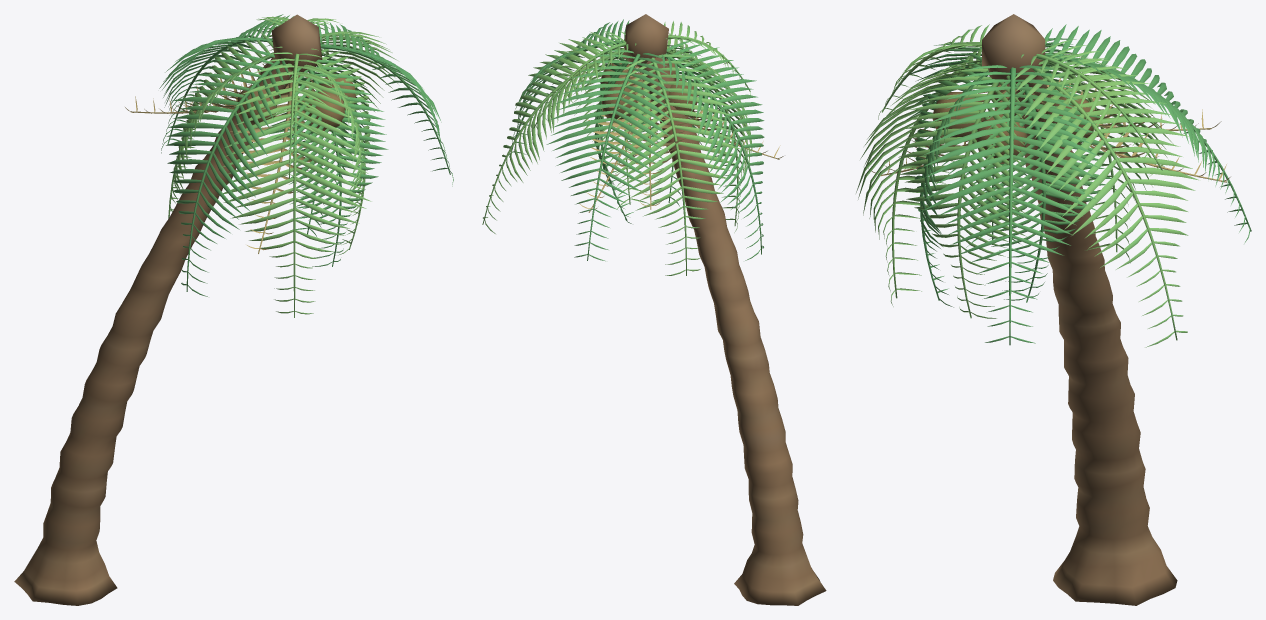
The model's file is palm_b.glb.
The picture shows the model from 3 angles, left to right: view 1: azimuth 30°, elevation 25°; view 2: azimuth 150°, elevation 25°; view 3: azimuth 270°, elevation 25°; orthographic projection. The views are drawn at different scales.
Visible parts, largest first — view 1: palm_b; view 2: palm_b; view 3: palm_b.
Boxes of the visible parts, box(x1,y1,x2,y2) form: palm_b: box(14, 14, 453, 605); palm_b: box(482, 14, 826, 605); palm_b: box(856, 14, 1251, 605).
Size of the model in its own units: 5.06 by 6.99 by 3.69.
